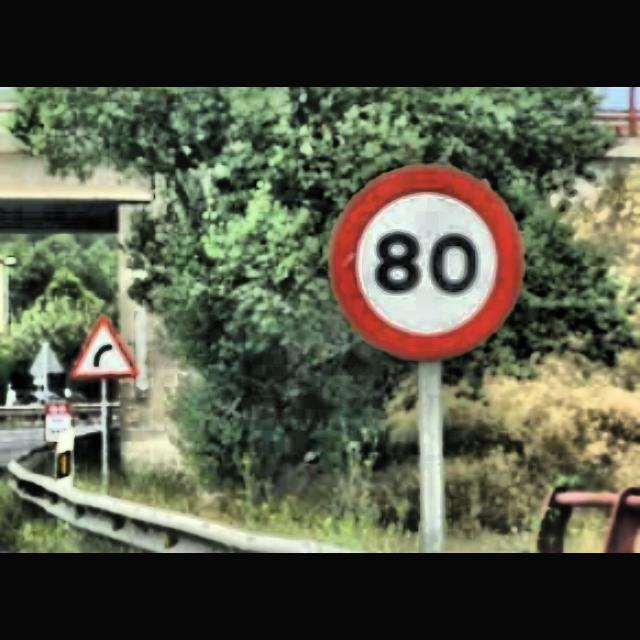speed_80: (330, 165, 522, 361)
